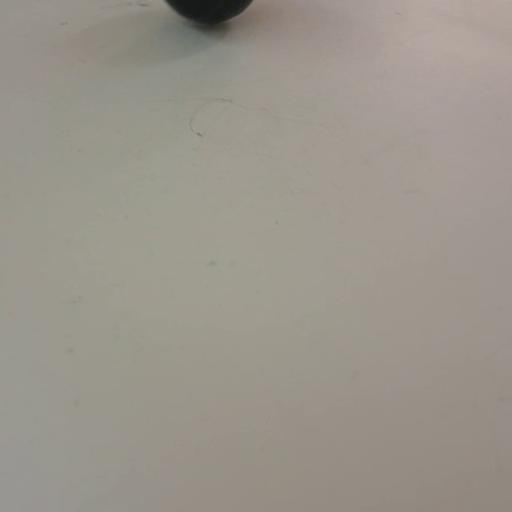dead: (161, 0, 256, 25)
